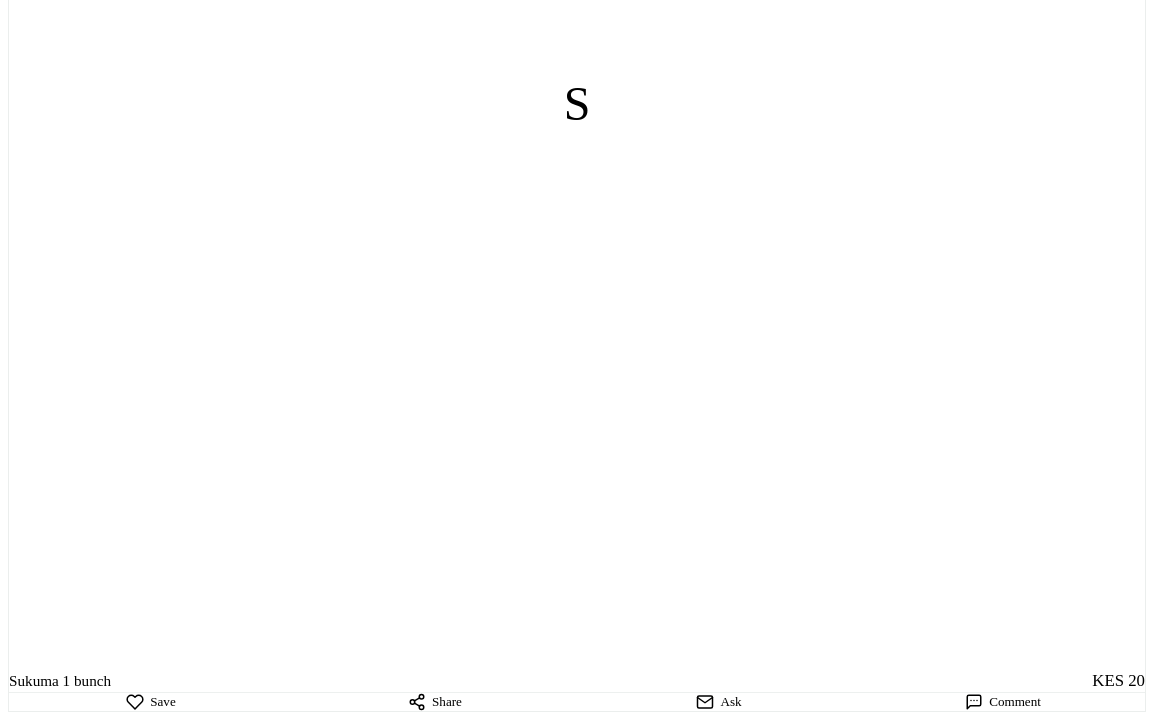
Test: ProductCard — engagement bar › sends the "is this available?" inquiry on Ask and locks the button
(page scrolled)
Click the button with test id "ask-btn".
click(719, 702)  # box [577,692,861,710]
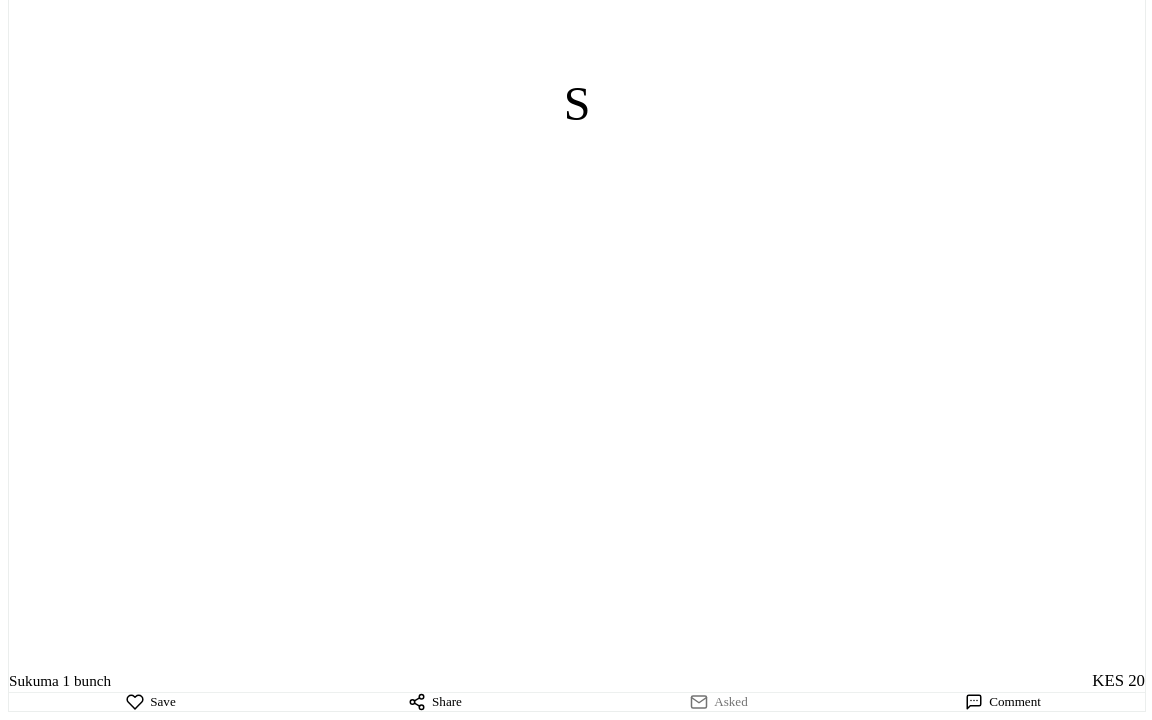
Result: the button with test id "ask-btn" reads "Asked" at [577,692,861,710]
